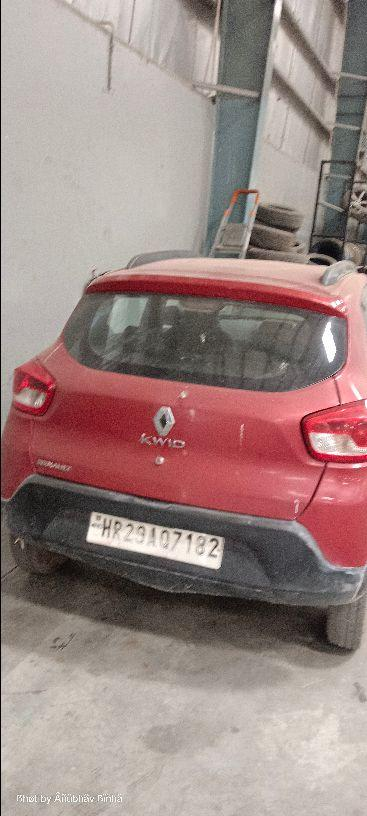license_plate: (84, 510, 225, 571)
